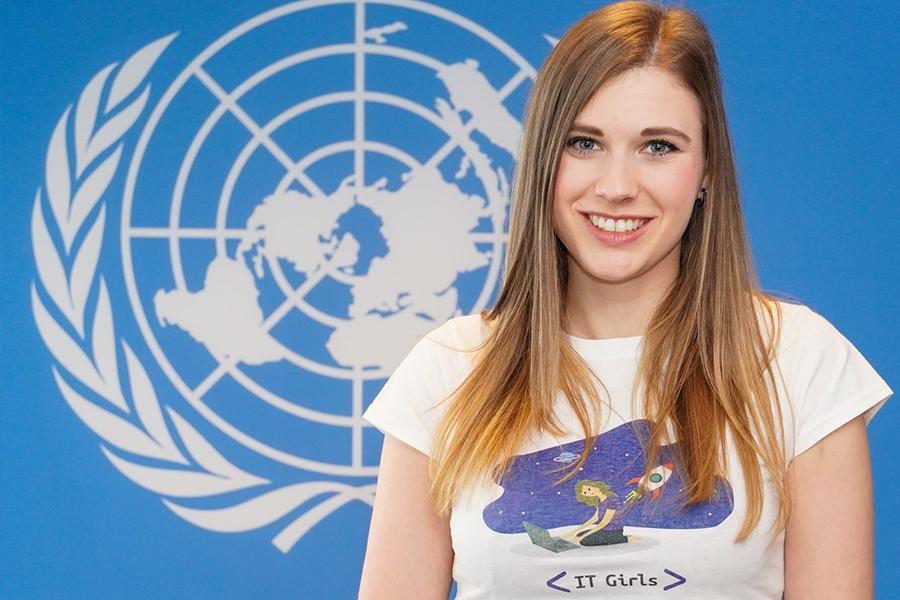GIRL: (524, 32, 725, 283)
